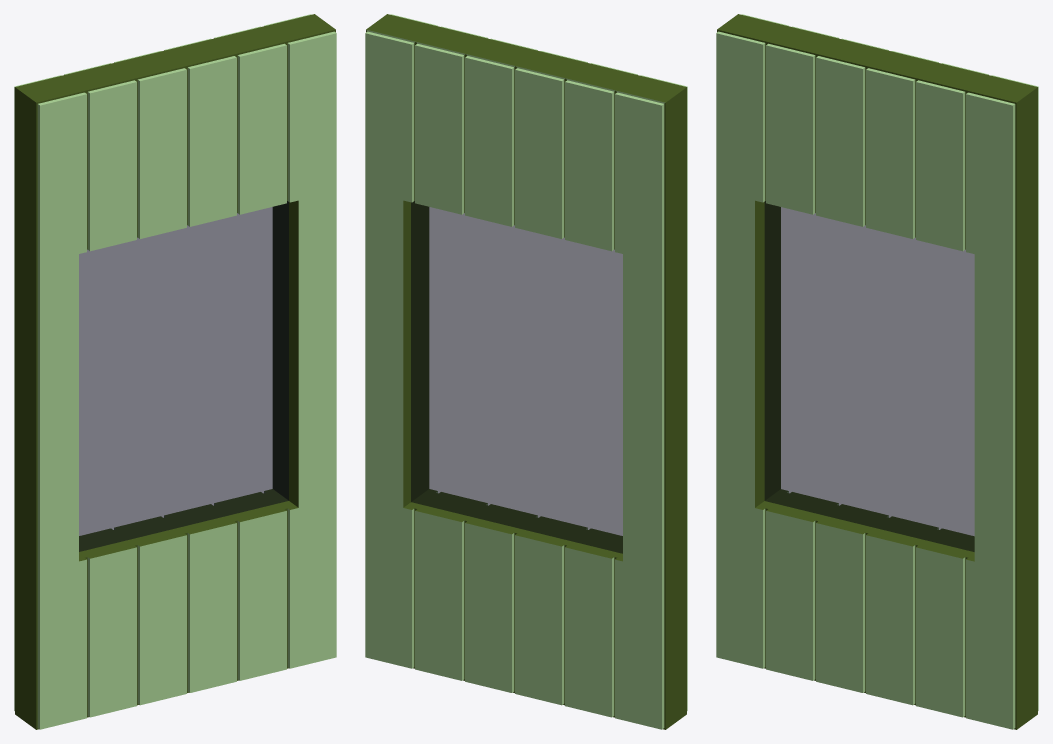
The model's file is GreenBoardsWindow.glb.
The picture shows the model from 3 angles, left to right: view 1: azimuth 30°, elevation 25°; view 2: azimuth 150°, elevation 25°; view 3: azimuth 330°, elevation 25°; orthographic projection.
Visible parts, largest first — view 1: wall_greeenBoards_window; view 2: wall_greeenBoards_window; view 3: wall_greeenBoards_window.
Part boxes in pixels (<box>): wall_greeenBoards_window: <box>14,14,336,729</box>; wall_greeenBoards_window: <box>365,14,687,729</box>; wall_greeenBoards_window: <box>716,14,1038,729</box>.
Size of what is drawn, in the model's own units: 2 by 4 by 0.3.
2 materials, 2 textured.
